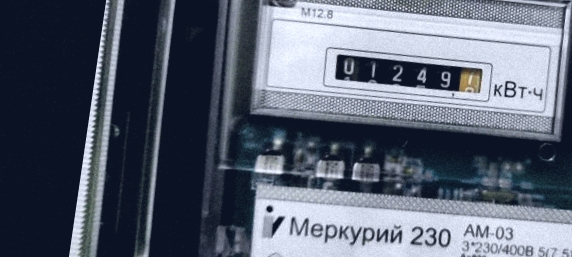0: (341, 55, 357, 76)
1: (366, 58, 379, 79)
2: (389, 62, 405, 84)
4: (415, 64, 428, 85)
7: (463, 66, 477, 87)
9: (437, 68, 453, 90)
screen: (314, 38, 493, 108)
